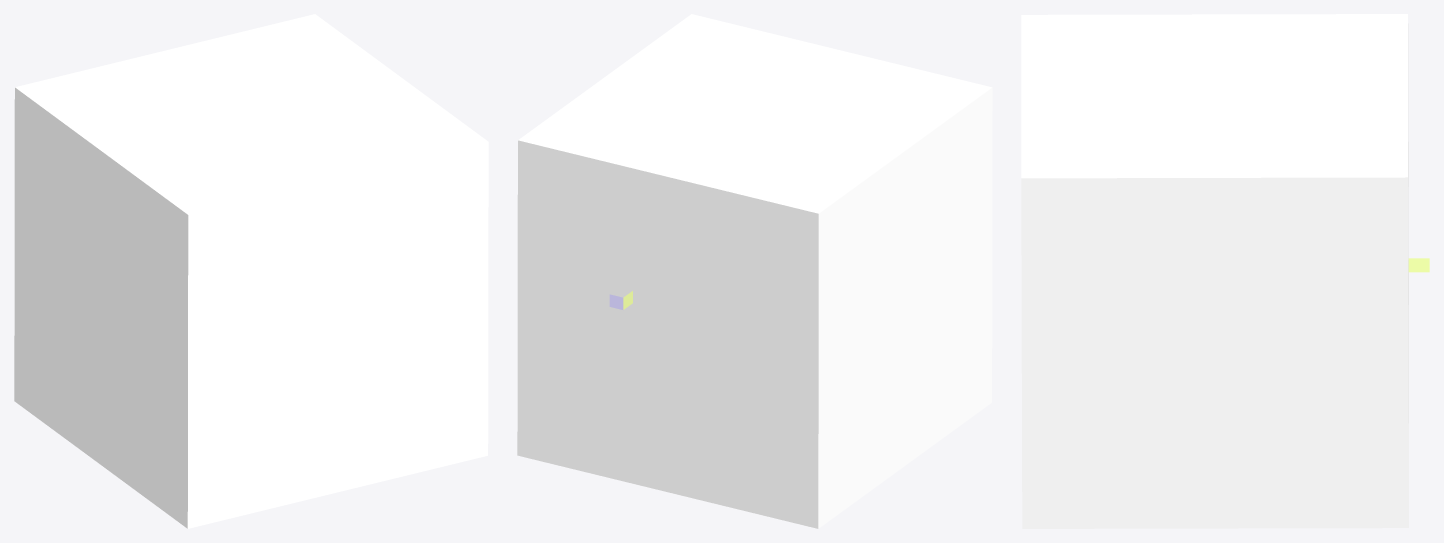
3 renders of one model, left to right at view 1: azimuth 30°, elevation 25°; view 2: azimuth 150°, elevation 25°; view 3: azimuth 270°, elevation 25°, orthographic. The views are drawn at different scales.
Parts seen in each view (by area): view 1: cube; view 2: cube; view 3: cube.
Boxes of the visible parts, left/top/right/bottom form: cube: left=14, top=14, right=488, bottom=528; cube: left=517, top=14, right=992, bottom=528; cube: left=1021, top=14, right=1408, bottom=528.
Size of what is drawn, in the model's own units: 12 by 12.03 by 12.67.
19 materials, 5 textured.
